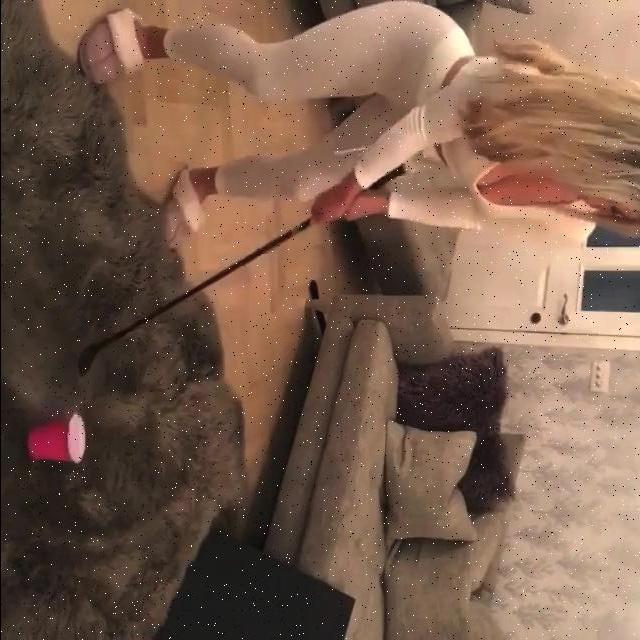golf club-handle: (74, 167, 404, 377)
golf club-head: (74, 344, 97, 376)
